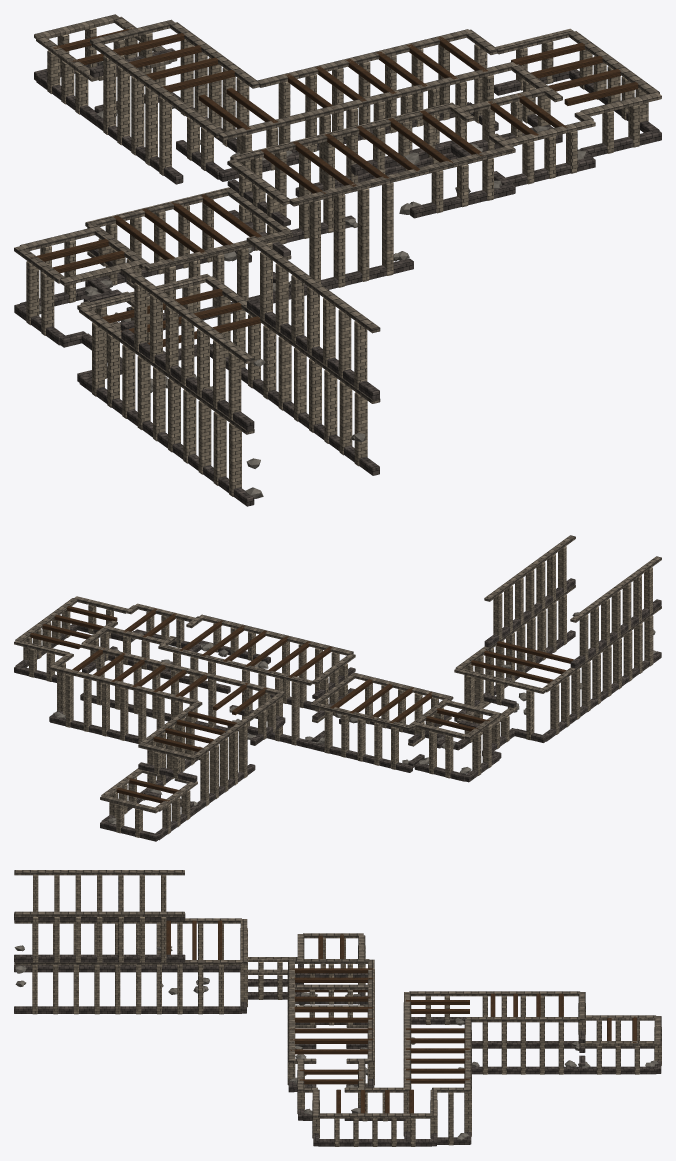
Rendered from tutorial_detailkit_tex.fbx.
3 renders of one model, top to bottom at view 1: azimuth 30°, elevation 25°; view 2: azimuth 150°, elevation 25°; view 3: azimuth 270°, elevation 25°, orthographic. The views are drawn at different scales.
Visible parts, largest first — view 1: kit_pilaster, kit_cornice, kit_plinth, kit_beams, kit_rocks; view 2: kit_pilaster, kit_cornice, kit_plinth, kit_beams, kit_rocks; view 3: kit_pilaster, kit_cornice, kit_plinth, kit_beams, kit_rocks.
Boxes of the visible parts, box(x1,y1,x2,y2) form: kit_pilaster: box(26, 27, 648, 496); kit_cornice: box(14, 14, 661, 434); kit_plinth: box(14, 48, 661, 506); kit_beams: box(31, 28, 638, 346); kit_rocks: box(39, 61, 586, 498); kit_pilaster: box(23, 546, 653, 837); kit_cornice: box(14, 535, 661, 813); kit_plinth: box(14, 578, 661, 841); kit_beams: box(30, 606, 573, 803); kit_rocks: box(53, 612, 656, 824); kit_pilaster: box(32, 875, 661, 1146); kit_cornice: box(14, 870, 661, 1118); kit_plinth: box(14, 913, 661, 1146); kit_beams: box(166, 920, 636, 1114); kit_rocks: box(14, 945, 658, 1141).
Size of the model in its own units: 132 by 29 by 171.
5 materials, 5 textured.
